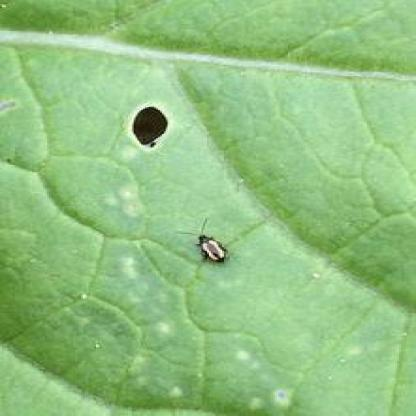beetle: (184, 219, 242, 275)
